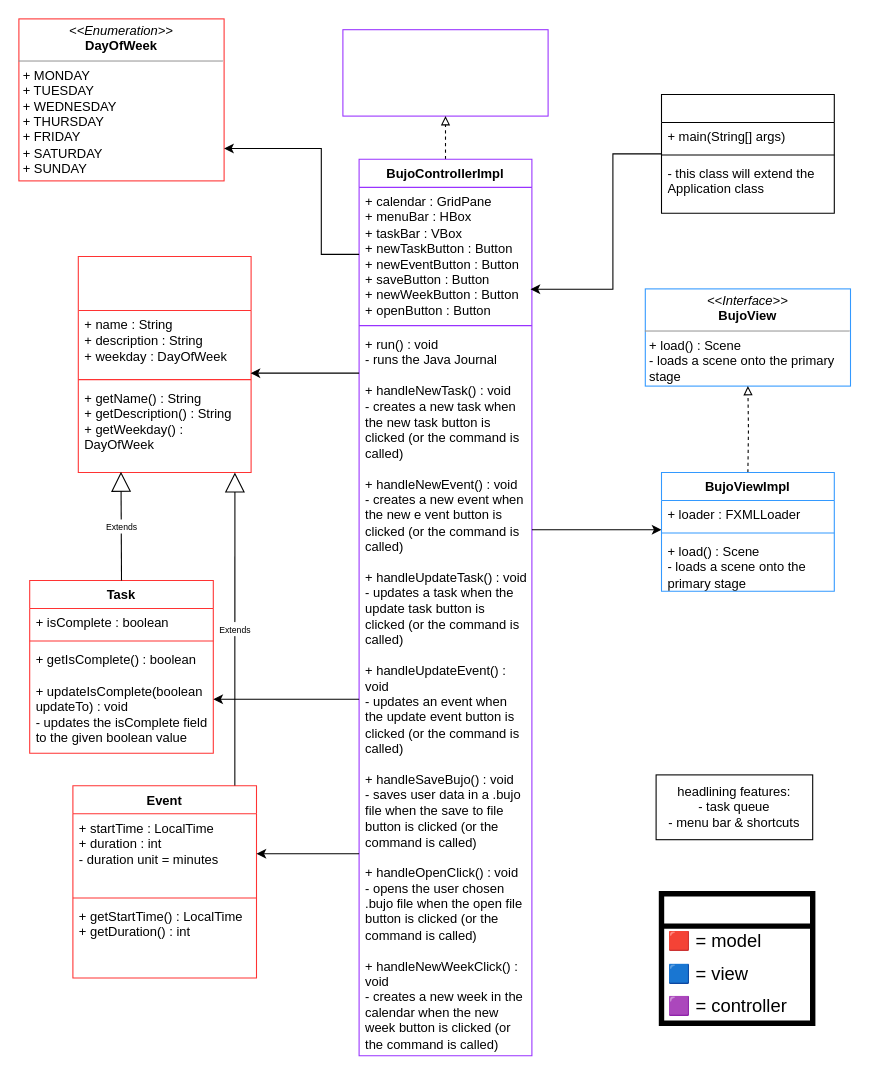
Some shapes in this 869 by 1078 pixel diagram are drawn without their labels. Here are the shapes that lost their labels. From the top down, the box of each, then its label:
(342, 29, 548, 116): <<Interface>> BujoController + run() : void - runs the Java Journal
(660, 93, 834, 213): Driver
(77, 255, 251, 473): <<Abstract>> CalendarObject
(658, 890, 815, 1025): MVC Legend
